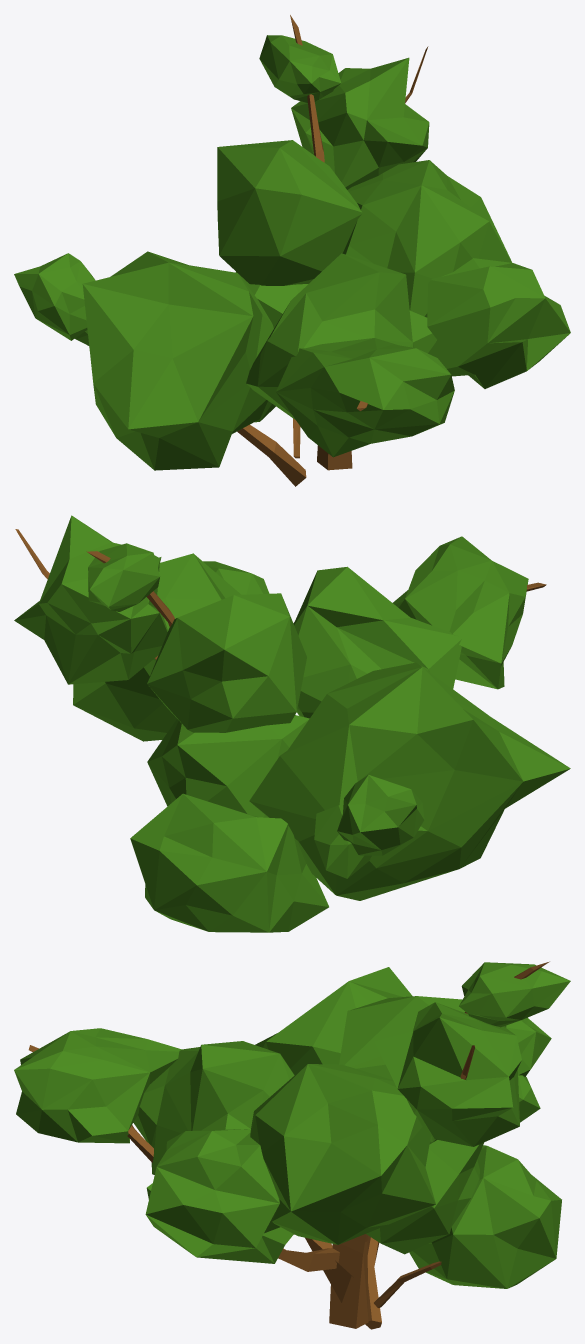
Rendered from Bush001.FBX.
3 views of the same model, one above another, from view 1: azimuth 30°, elevation 25°; view 2: azimuth 150°, elevation 25°; view 3: azimuth 270°, elevation 25° (orthographic). The views are drawn at different scales.
Visible parts, largest first — view 1: Leaf001, Leaf003, Leaf007, Leaf008, Leaf004, Leaf002, Leaf005, Leaf009, Leaf012, Branch003, Branch001, Leaf010; view 2: Leaf001, Leaf006, Leaf003, Leaf002, Leaf005, Leaf007, Leaf010, Leaf008, Leaf009, Leaf012, Leaf011, Leaf004; view 3: Leaf008, Leaf004, Leaf005, Leaf007, Leaf006, Leaf002, Leaf001, Leaf010, Leaf012, Leaf003, Branch001, Leaf009 (+5 smaller).
Boxes of the visible parts, box(x1,y1,x2,y2) form: Leaf001: box(82, 251, 273, 470); Leaf003: box(217, 140, 362, 285); Leaf007: box(276, 338, 454, 457); Leaf008: box(342, 160, 512, 317); Leaf004: box(427, 258, 570, 388); Leaf002: box(246, 253, 437, 419); Leaf005: box(291, 57, 429, 189); Leaf009: box(14, 253, 95, 340); Leaf012: box(259, 35, 340, 102); Branch003: box(237, 424, 306, 486); Branch001: box(290, 15, 352, 470); Leaf010: box(235, 272, 307, 327); Leaf001: box(249, 662, 570, 900); Leaf006: box(130, 793, 328, 932); Leaf003: box(147, 593, 306, 732); Leaf002: box(293, 566, 461, 718); Leaf005: box(14, 515, 167, 684); Leaf007: box(393, 536, 528, 689); Leaf010: box(147, 715, 309, 817); Leaf008: box(73, 553, 240, 741); Leaf009: box(337, 774, 424, 855); Leaf012: box(88, 543, 159, 611); Leaf011: box(314, 805, 371, 878); Leaf004: box(203, 561, 269, 594); Leaf008: box(250, 1064, 435, 1244); Leaf004: box(145, 1129, 293, 1263); Leaf005: box(374, 1002, 521, 1146); Leaf007: box(14, 1028, 181, 1143); Leaf006: box(409, 1145, 561, 1288); Leaf002: box(133, 1041, 294, 1174); Leaf001: box(255, 967, 412, 1075); Leaf010: box(366, 1140, 483, 1254); Leaf012: box(459, 962, 570, 1027); Leaf003: box(339, 996, 465, 1143); Branch001: box(329, 961, 549, 1328); Leaf009: box(503, 1017, 551, 1076).
Size of the model in its own units: 12.02 by 10.75 by 13.26.
